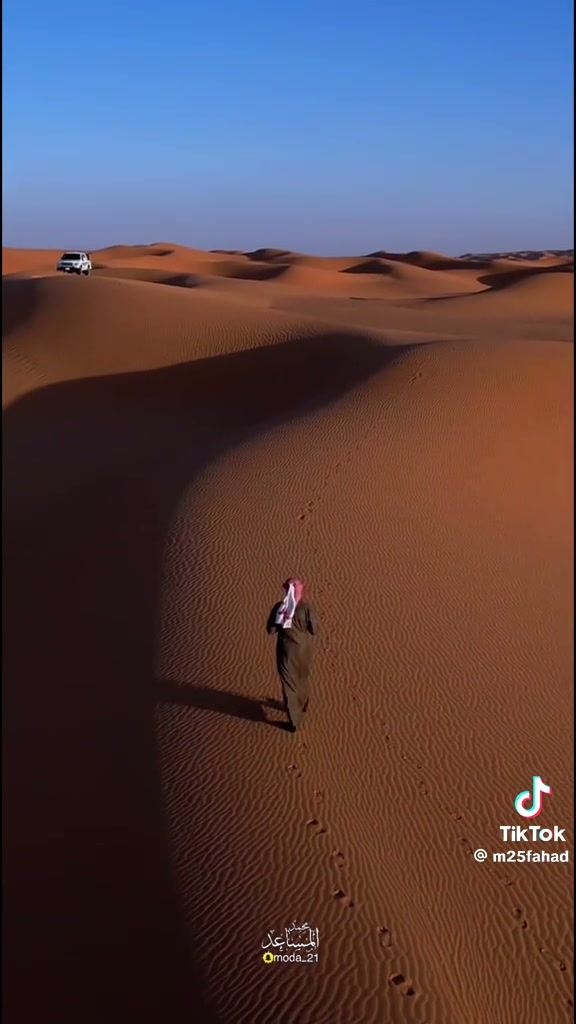human: (266, 578, 316, 731)
human_foot_print: (380, 719, 483, 856), (432, 796, 482, 855), (537, 945, 567, 972), (539, 947, 566, 971), (389, 972, 415, 995), (332, 887, 353, 908), (297, 500, 315, 522), (306, 817, 327, 834), (262, 697, 284, 711), (513, 907, 527, 929), (377, 926, 391, 948), (331, 849, 344, 866), (287, 762, 300, 777), (410, 371, 423, 384), (313, 789, 323, 801), (298, 741, 307, 752), (565, 998, 572, 1011)
